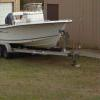Boat: (2, 4, 68, 60)
